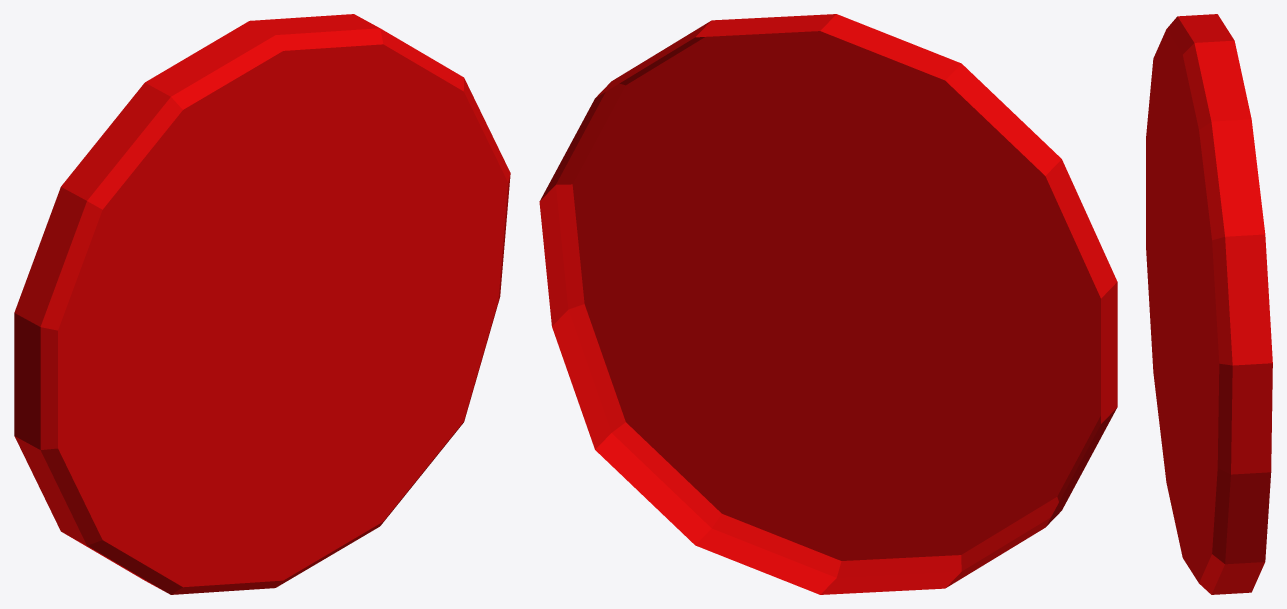
File: offButtonShower.fbx
3 renders of one model, left to right at view 1: azimuth 30°, elevation 25°; view 2: azimuth 150°, elevation 25°; view 3: azimuth 270°, elevation 25°, orthographic. The views are drawn at different scales.
Visible parts, largest first — view 1: offButtonShower; view 2: offButtonShower; view 3: offButtonShower.
Boxes of the visible parts, x1,y1,x2,y2 form: offButtonShower: [14, 14, 510, 594]; offButtonShower: [539, 14, 1117, 594]; offButtonShower: [1146, 14, 1272, 594].
Size of the model in its own units: 7.14 by 7.32 by 1.6.
